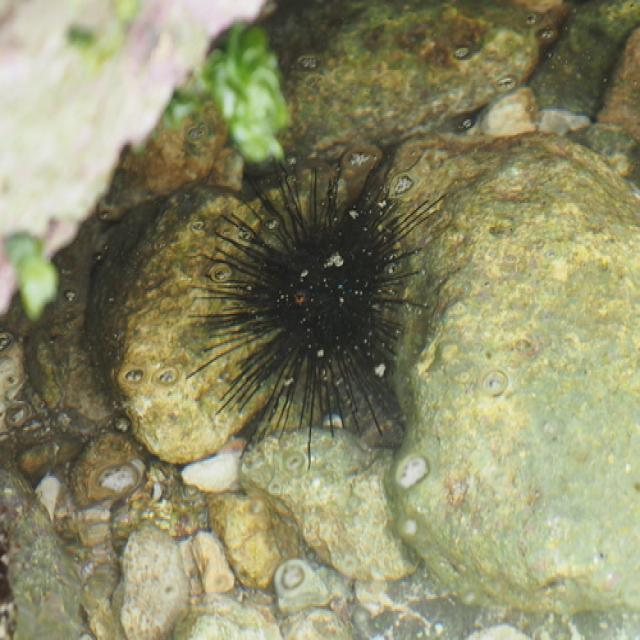Urchin: (184, 155, 429, 471)
